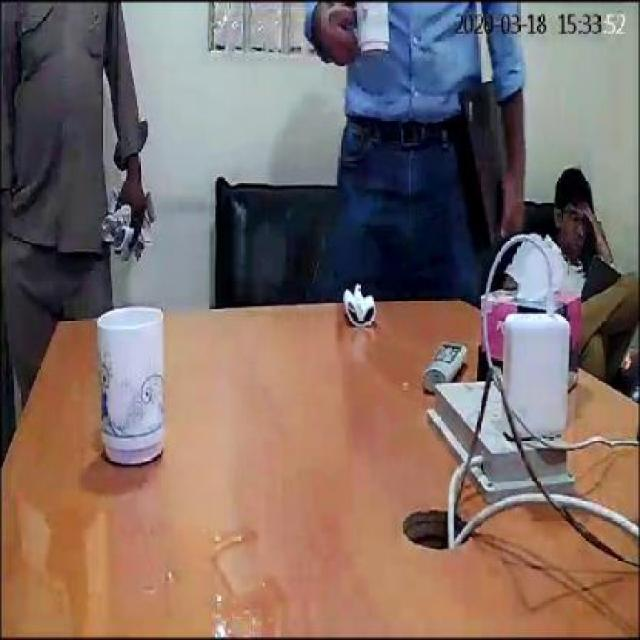spill: (70, 488, 284, 632)
